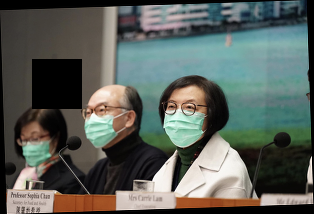with_mask: (161, 93, 209, 146), (82, 98, 126, 148), (17, 128, 56, 167)
